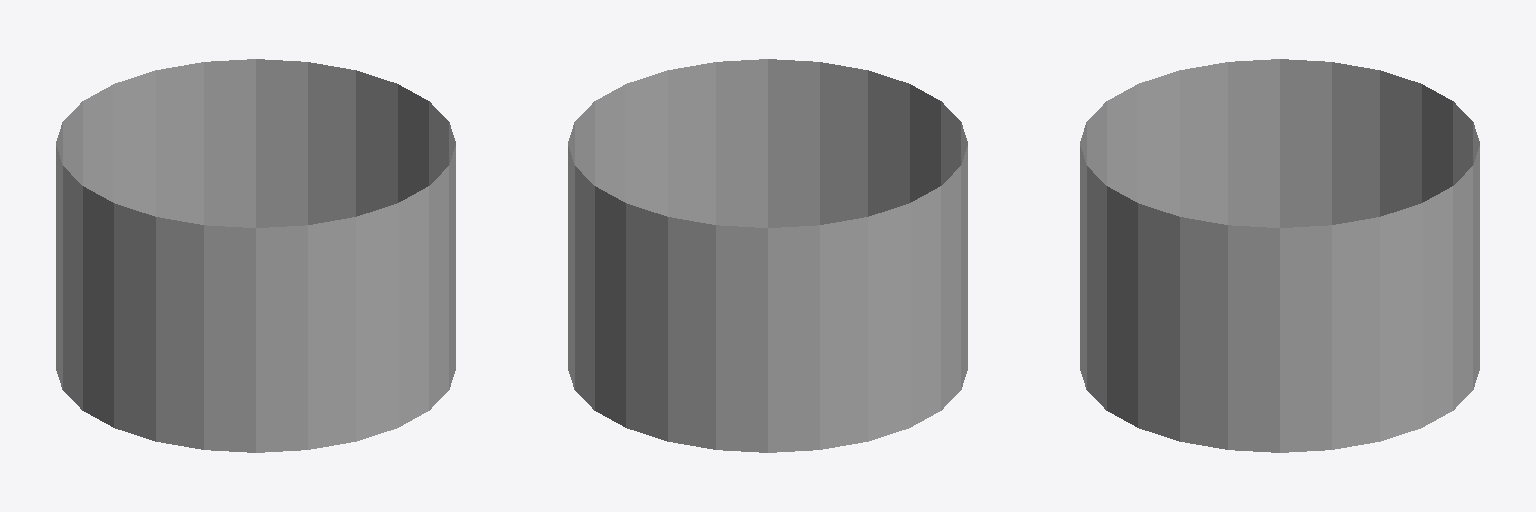
The model's file is original-192.obj.
3 renders of one model, left to right at view 1: azimuth 30°, elevation 25°; view 2: azimuth 150°, elevation 25°; view 3: azimuth 270°, elevation 25°, orthographic.
Parts seen in each view (by area): view 1: #ID1186; view 2: #ID1186; view 3: #ID1186.
Part boxes in pixels (bbox=[...]): #ID1186: bbox=[56, 59, 455, 452]; #ID1186: bbox=[568, 59, 967, 452]; #ID1186: bbox=[1080, 59, 1479, 452].
Bounding box in the file's own units: 0.006 × 0.0037 × 0.006.